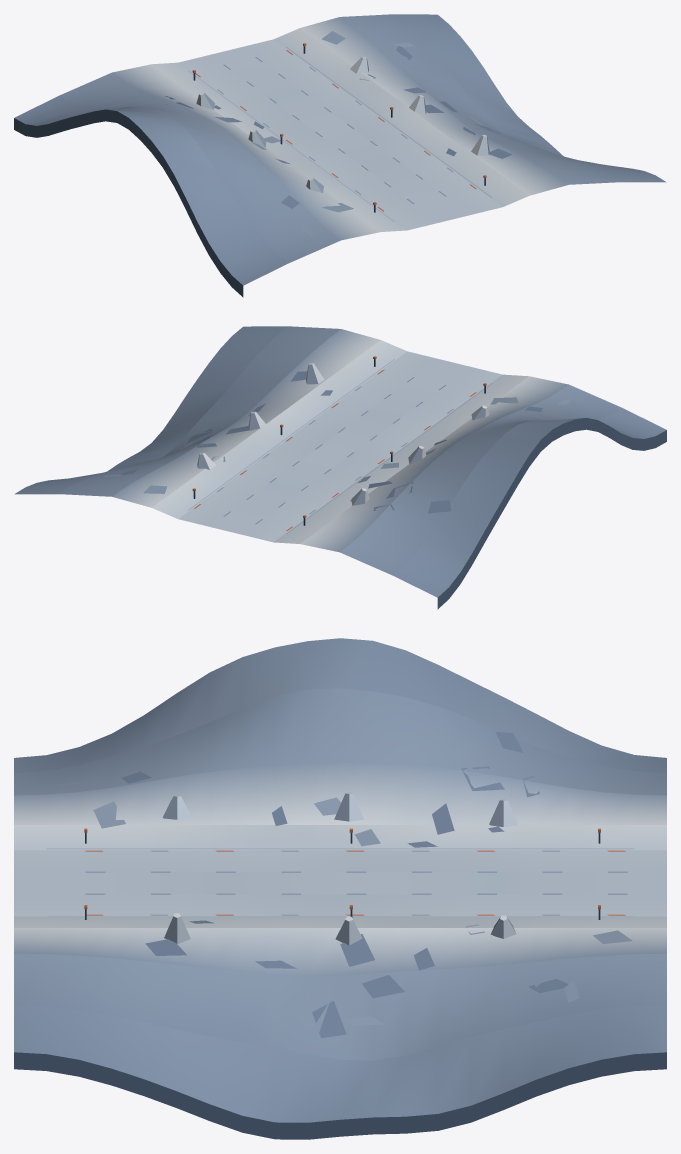
The model's file is 08-summit.glb.
The picture shows the model from 3 angles, top to bottom: view 1: azimuth 30°, elevation 25°; view 2: azimuth 150°, elevation 25°; view 3: azimuth 270°, elevation 25°; orthographic projection. The views are drawn at different scales.
Visible parts, largest first — view 1: summit; view 2: summit; view 3: summit.
Boxes of the visible parts, <box> form: summit: <box>14,14,666,297</box>; summit: <box>14,326,666,609</box>; summit: <box>14,638,666,1139</box>.
Bounding box in the file's own units: 32 × 10.5 × 30.
